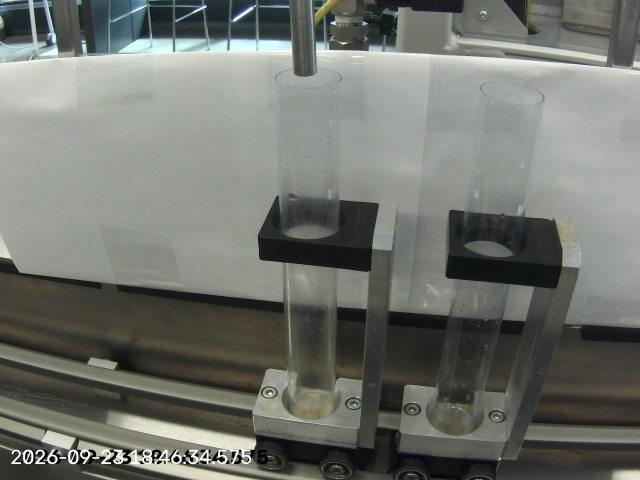vial: (418, 67, 541, 440), (255, 67, 371, 421)
